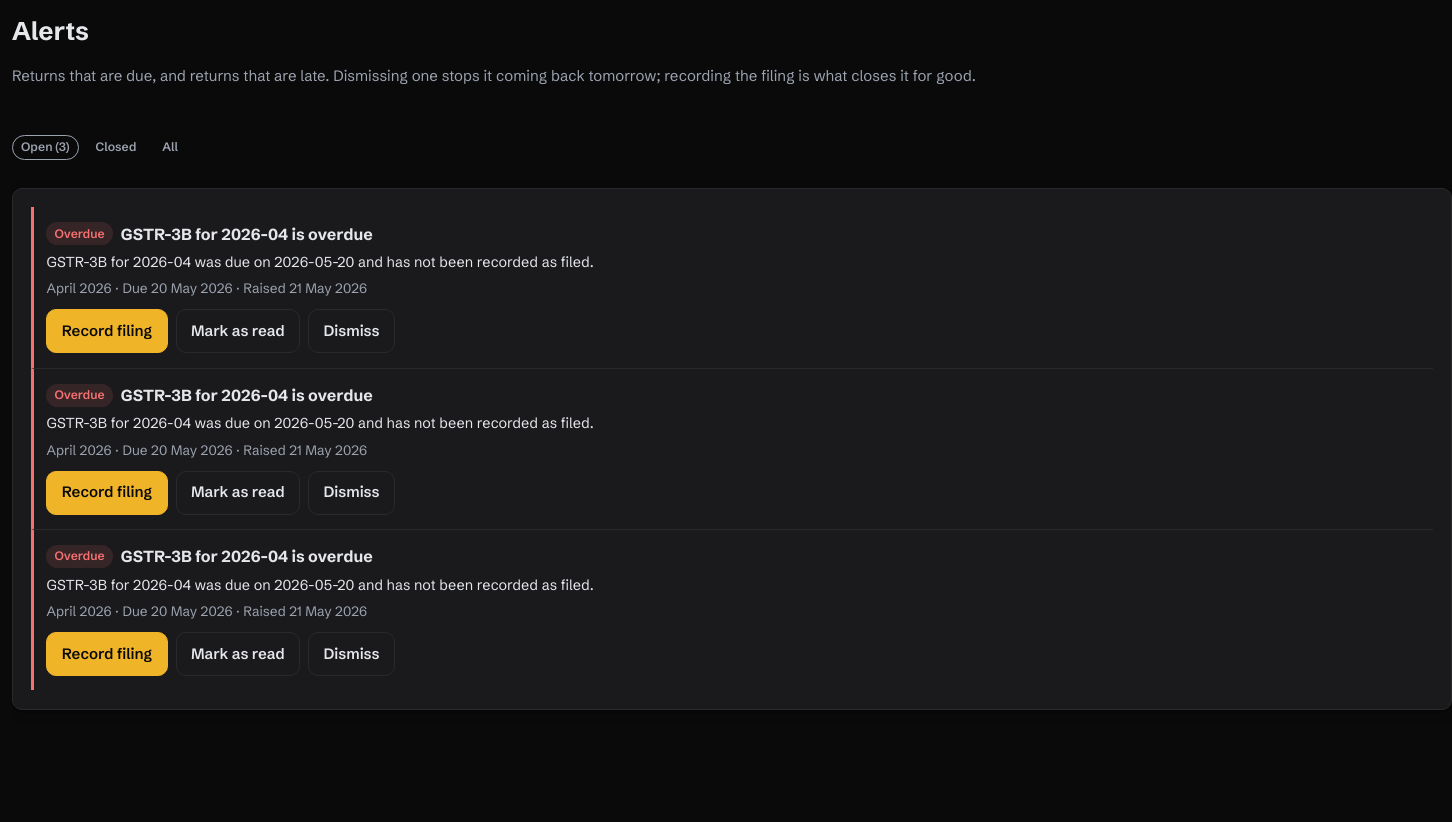
Test: AlertsPage › keeps a row disabled while its own request is still in flight
Click the 1st button "Dismiss": [352, 331] box top-left (308, 309), bottom-right (395, 353)
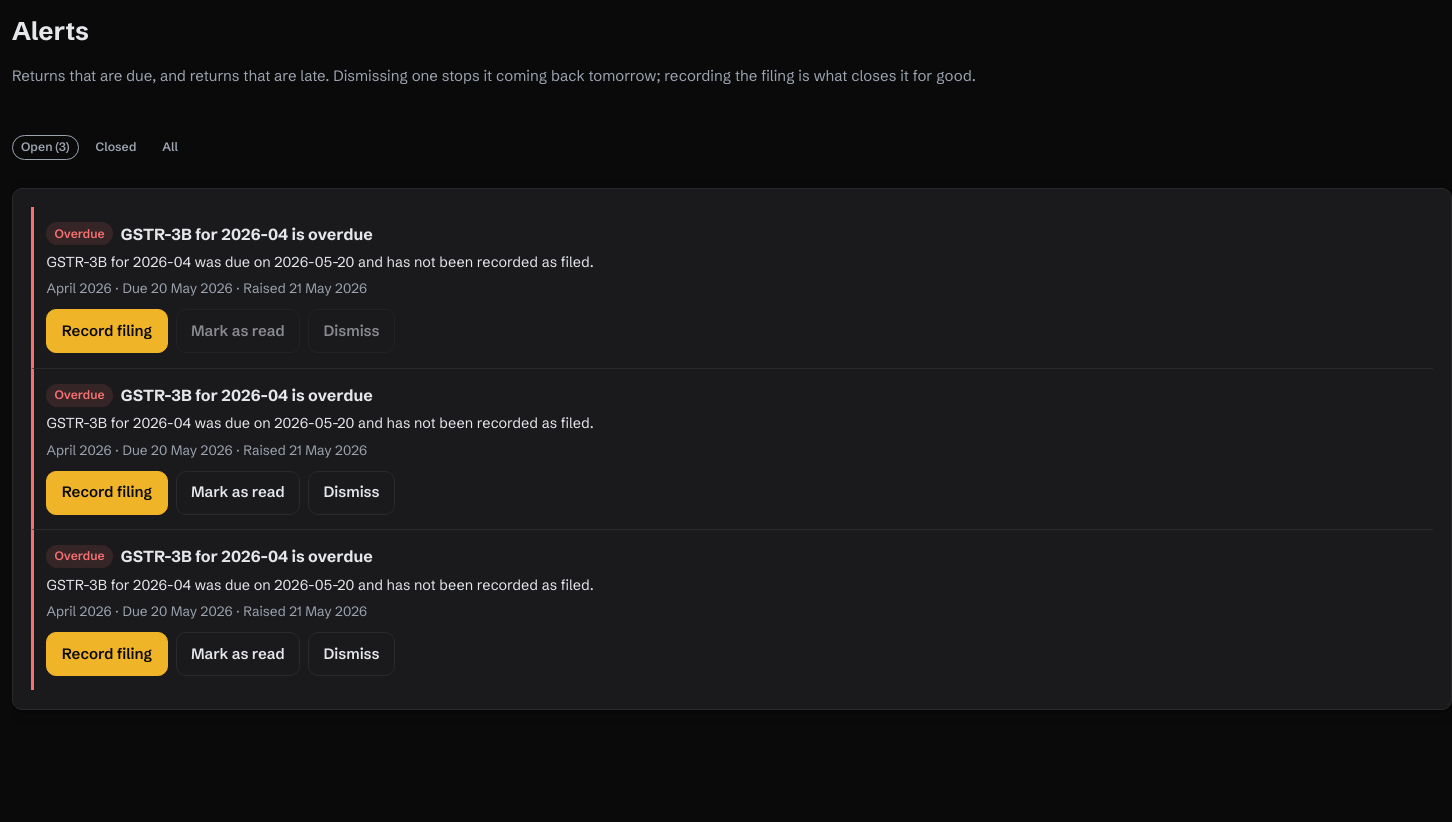
Click the 2nd button "Dismiss": [352, 493] box top-left (308, 471), bottom-right (395, 515)
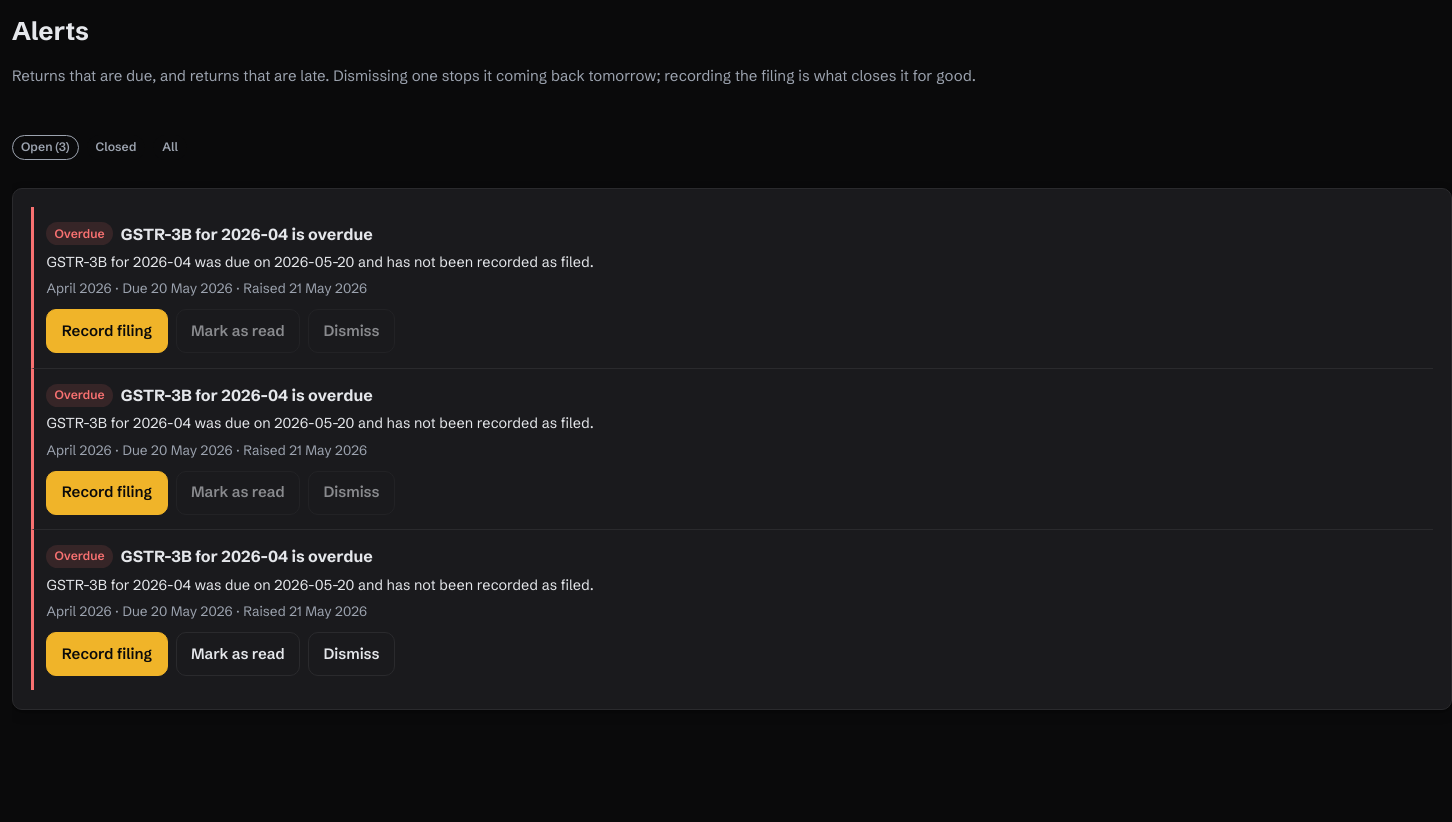
Expected: the 3rd button "Dismiss" is enabled, top-left (308, 632), bottom-right (395, 676)
Expected: the 1st button "Dismiss" is disabled, top-left (308, 309), bottom-right (395, 353)
Expected: the 2nd button "Dismiss" is disabled, top-left (308, 471), bottom-right (395, 515)
